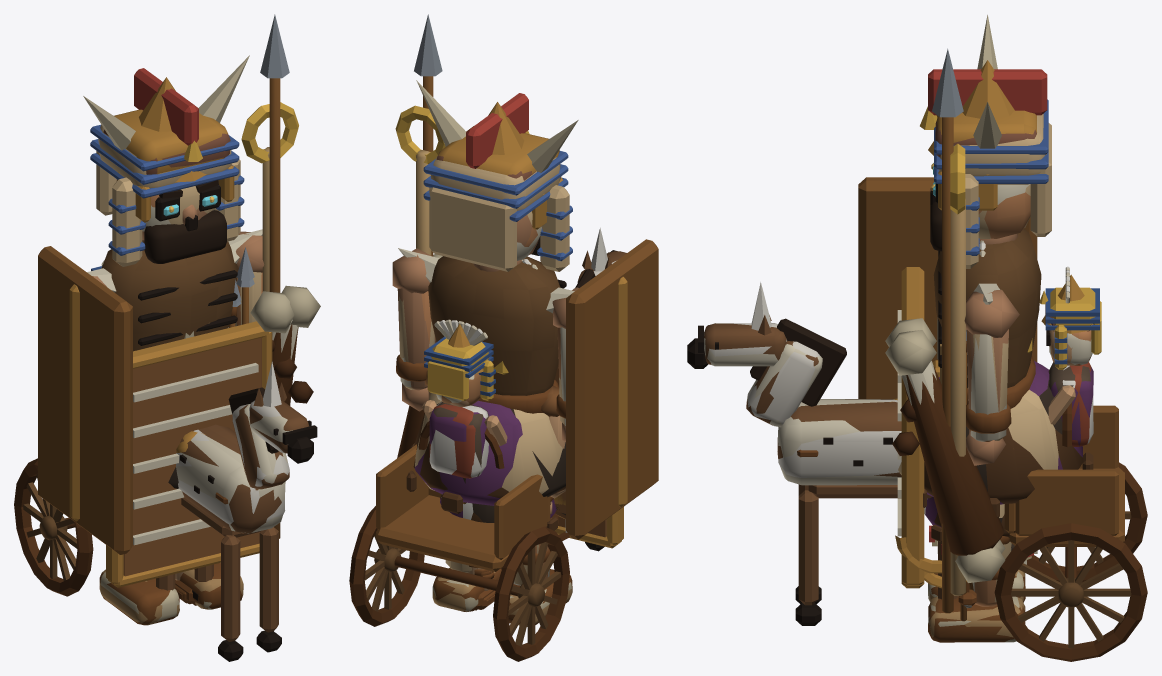
Rendered from mobs.glb.
The picture shows the model from 3 angles, left to right: view 1: azimuth 30°, elevation 25°; view 2: azimuth 150°, elevation 25°; view 3: azimuth 270°, elevation 25°; orthographic projection. The views are drawn at different scales.
Parts seen in each view (by area): view 1: mob_3_jerico, mob_3_ela, mob_6_ela, mob_2_ela, mob_3_mar, mob_3_ossos, mob_2_ossos, mob_6_ossos, mob_2_jerico, mob_2_mar, mob_6_jerico; view 2: mob_3_jerico, mob_2_ela, mob_3_ela, mob_3_mar, mob_2_mar, mob_3_ossos, mob_6_ela, mob_2_jerico, mob_2_ossos; view 3: mob_2_ela, mob_3_ela, mob_3_jerico, mob_3_mar, mob_2_mar, mob_3_ossos, mob_2_ossos, mob_2_jerico, mob_6_ela, mob_6_mar.
Boxes of the visible parts, x1=… form: mob_3_jerico: x1=38, y1=14, x2=289, y2=625; mob_3_ela: x1=92, y1=68, x2=313, y2=624; mob_6_ela: x1=106, y1=278, x2=272, y2=605; mob_2_ela: x1=14, y1=260, x2=313, y2=661; mob_3_mar: x1=90, y1=102, x2=298, y2=625; mob_3_ossos: x1=83, y1=55, x2=320, y2=621; mob_2_ossos: x1=176, y1=404, x2=317, y2=533; mob_6_ossos: x1=133, y1=363, x2=258, y2=545; mob_2_jerico: x1=207, y1=401, x2=310, y2=533; mob_2_mar: x1=91, y1=266, x2=289, y2=524; mob_6_jerico: x1=236, y1=247, x2=254, y2=324; mob_3_jerico: x1=414, y1=14, x2=658, y2=624; mob_2_ela: x1=349, y1=228, x2=611, y2=661; mob_3_ela: x1=392, y1=93, x2=578, y2=611; mob_3_mar: x1=395, y1=105, x2=572, y2=626; mob_2_mar: x1=424, y1=261, x2=615, y2=477; mob_3_ossos: x1=398, y1=80, x2=578, y2=611; mob_6_ela: x1=425, y1=259, x2=623, y2=610; mob_2_jerico: x1=429, y1=251, x2=626, y2=455; mob_2_ossos: x1=433, y1=250, x2=617, y2=476; mob_2_ela: x1=687, y1=266, x2=1147, y2=661; mob_3_ela: x1=892, y1=69, x2=1093, y2=640; mob_3_jerico: x1=858, y1=48, x2=1082, y2=642; mob_3_mar: x1=898, y1=99, x2=1058, y2=638; mob_2_mar: x1=709, y1=287, x2=1101, y2=477; mob_3_ossos: x1=885, y1=15, x2=1062, y2=642; mob_2_ossos: x1=698, y1=304, x2=1092, y2=485; mob_2_jerico: x1=704, y1=274, x2=1093, y2=476; mob_6_ela: x1=889, y1=240, x2=1009, y2=588; mob_6_mar: x1=895, y1=338, x2=1032, y2=573.
Bounding box in the file's own units: 1.45 × 3.45 × 2.31.
